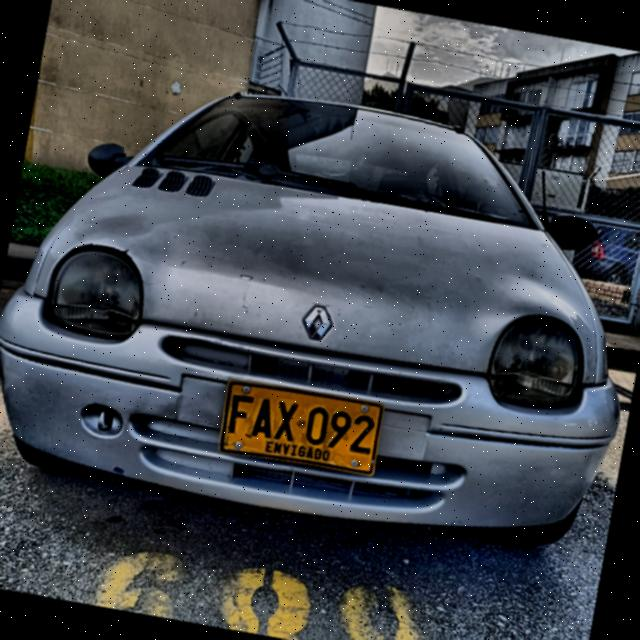plate: (220, 381, 383, 474)
